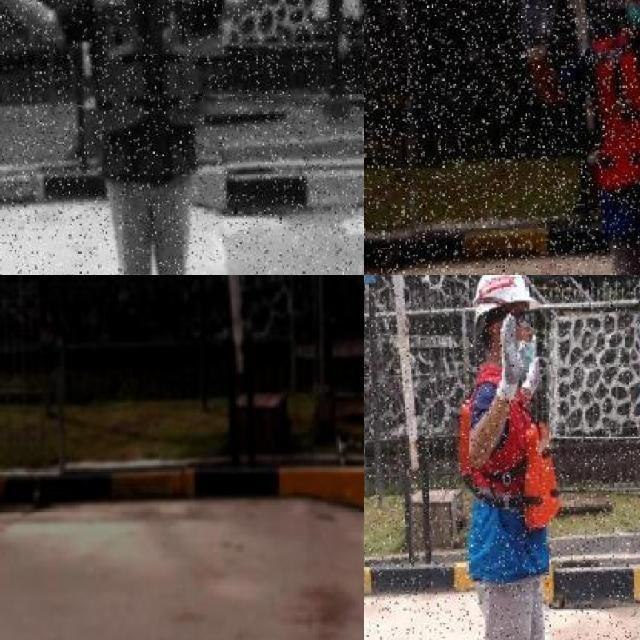apron: (517, 0, 555, 61), (498, 312, 520, 408), (527, 340, 541, 398)
